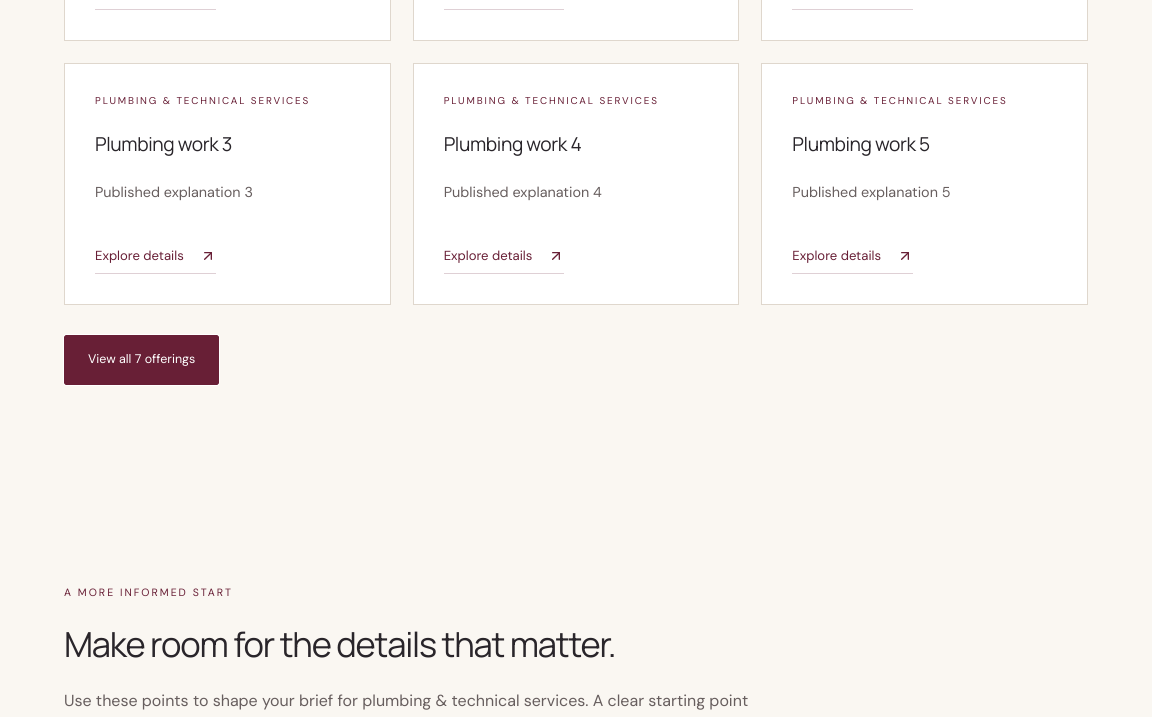
Scenario: expands the published offerings and shows category preparation guidance
This screenshot has width=1152, height=717.
(page scrolled)
Expected: the text "Published explanation 6" is not shown
Click the button "View all 7 offerings" at coordinates (142, 360), box [64,335,219,385]
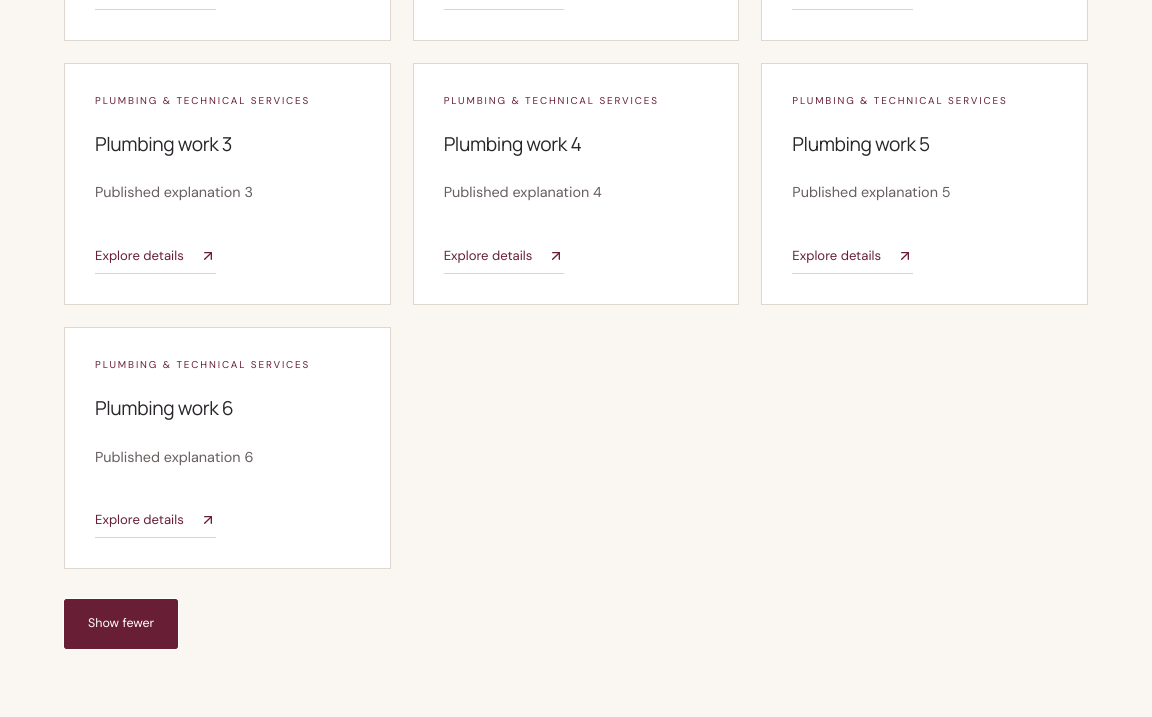
Expected: the text "Published explanation 6" is shown, [95,446,254,469]
Click the button "Show fewer" at coordinates (121, 624), box [64,599,178,649]
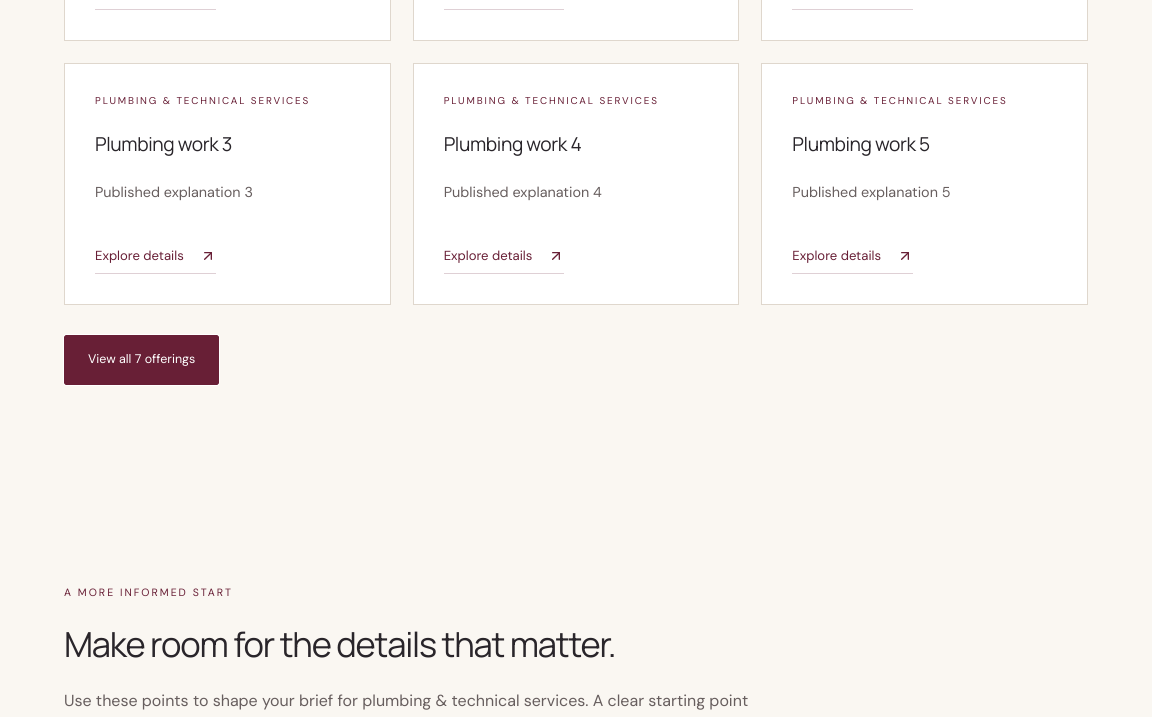
Expected: the text "Published explanation 6" is gone
